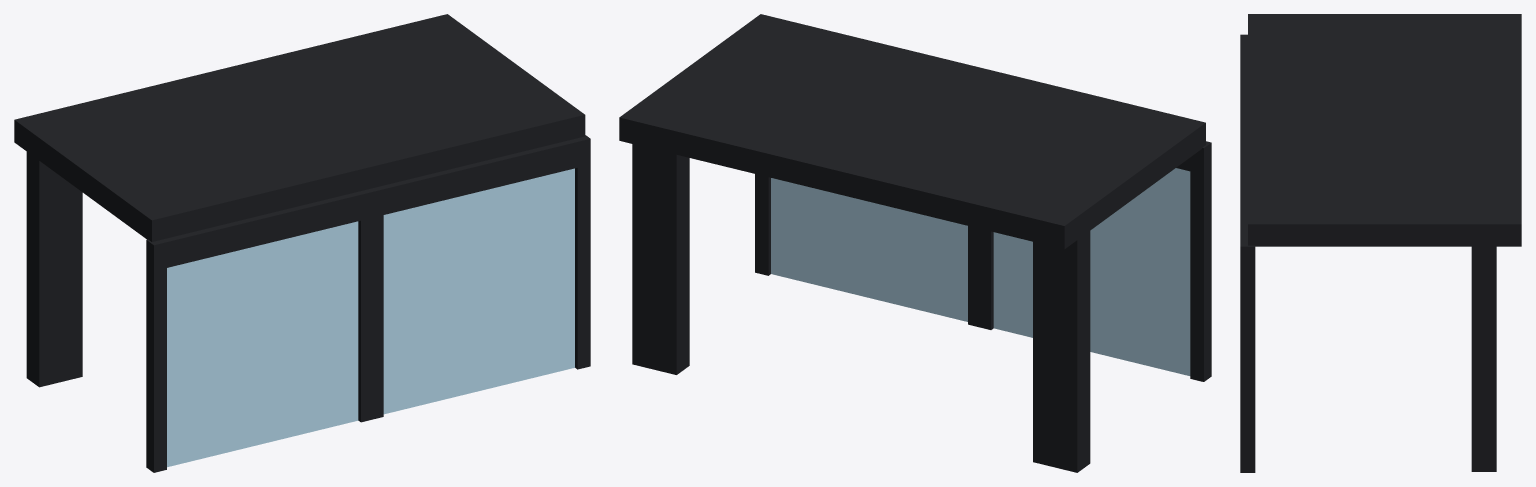
The model's file is Abribus2.fbx.
The picture shows the model from 3 angles, left to right: view 1: azimuth 30°, elevation 25°; view 2: azimuth 150°, elevation 25°; view 3: azimuth 270°, elevation 25°; orthographic projection. The views are drawn at different scales.
Visible parts, largest first — view 1: block_low_805, garage_wide_808, garage_wide_807, columns_806, garage_wide_810; view 2: block_low_805, garage_wide_810, columns_806, garage_wide_809, garage_wide_808; view 3: block_low_805, columns_806, garage_wide_807, garage_wide_809, garage_wide_808.
Boxes of the visible parts, <box> form: block_low_805: <box>14,14,585,241</box>; garage_wide_808: <box>150,189,373,472</box>; garage_wide_807: <box>368,136,590,419</box>; columns_806: <box>26,152,82,387</box>; garage_wide_810: <box>146,239,151,469</box>; block_low_805: <box>619,14,1205,249</box>; garage_wide_810: <box>978,145,1207,381</box>; columns_806: <box>632,144,1090,472</box>; garage_wide_809: <box>755,174,981,327</box>; garage_wide_808: <box>1206,141,1211,378</box>; block_low_805: <box>1248,14,1521,246</box>; columns_806: <box>1471,246,1496,471</box>; garage_wide_807: <box>1240,139,1247,472</box>; garage_wide_809: <box>1248,245,1255,472</box>; garage_wide_808: <box>1240,34,1247,141</box>.
Bounding box in the file's own units: 20.16 × 11 × 11.3.
